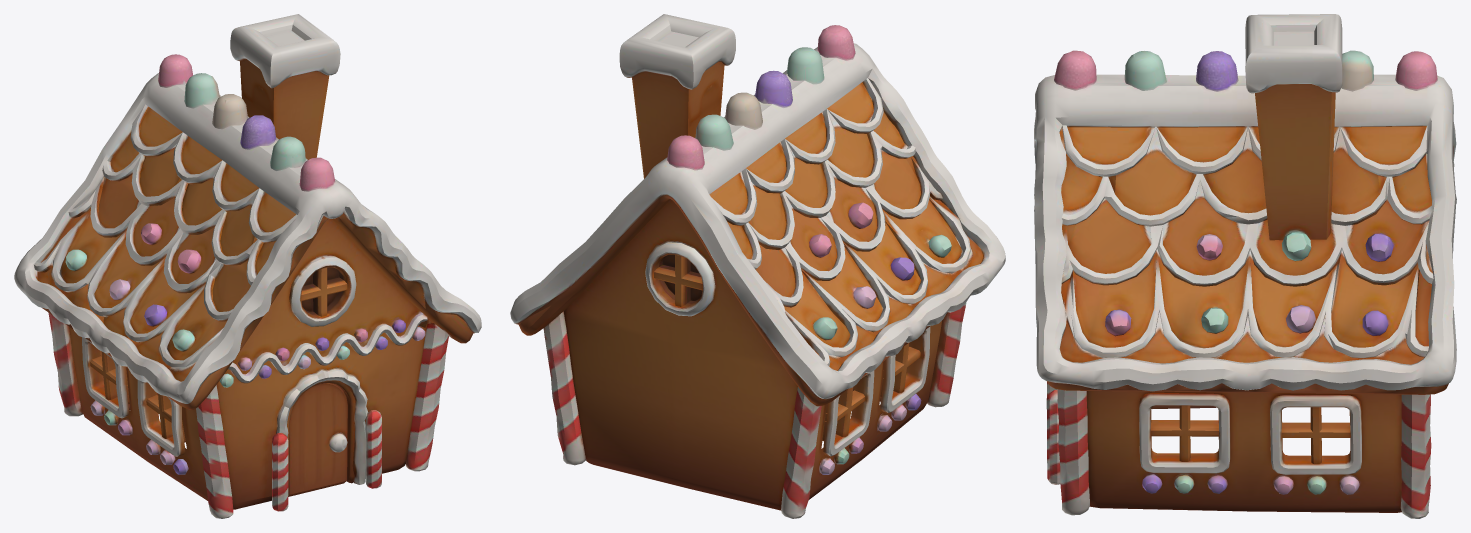
The model's file is gingerbread_cottage.glb.
3 views of the same model, side by side, from view 1: azimuth 30°, elevation 25°; view 2: azimuth 150°, elevation 25°; view 3: azimuth 270°, elevation 25° (orthographic). The views are drawn at different scales.
Visible parts, largest first — view 1: gingerbread_cottage; view 2: gingerbread_cottage; view 3: gingerbread_cottage.
Boxes of the visible parts, x1,y1,x2,y2 form: gingerbread_cottage: (14, 14, 481, 518); gingerbread_cottage: (510, 14, 1005, 518); gingerbread_cottage: (1034, 14, 1456, 518).
Size of the model in its own units: 7.64 by 9 by 7.51.
Materials: 1 (1 with a texture image).
